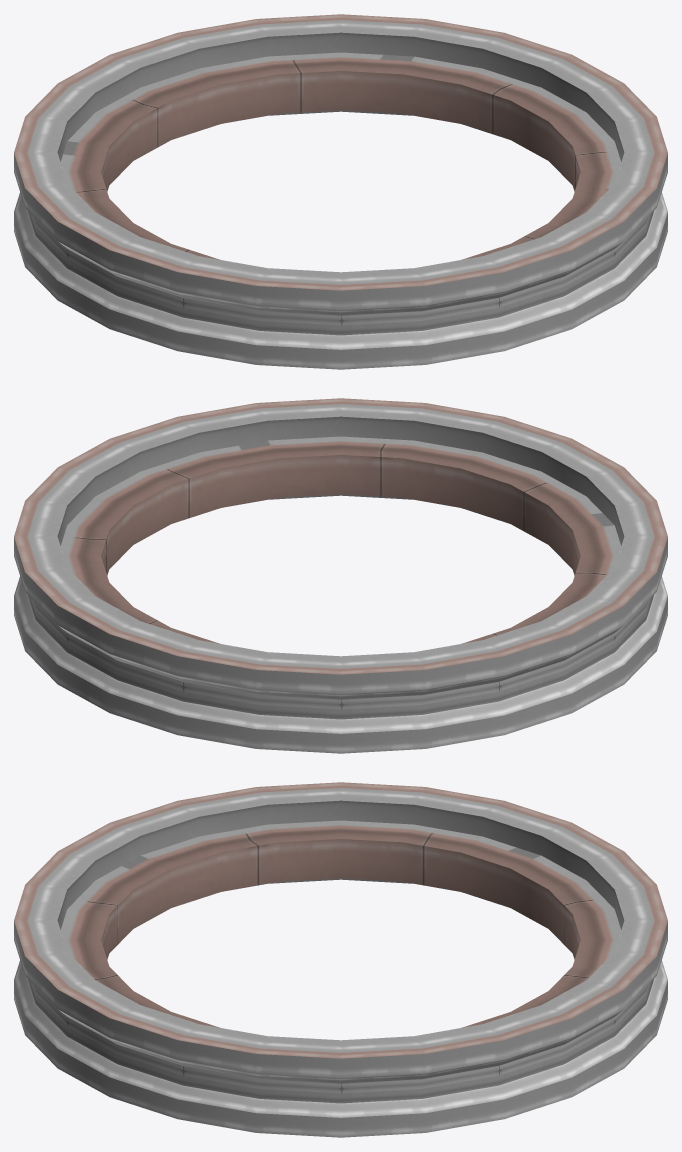
Rendered from Castor_Decoupler_1_O.obj.
3 views of the same model, one above another, from view 1: azimuth 30°, elevation 25°; view 2: azimuth 150°, elevation 25°; view 3: azimuth 270°, elevation 25° (orthographic).
Visible parts, largest first — view 1: Castor_Decoupler_1_O; view 2: Castor_Decoupler_1_O; view 3: Castor_Decoupler_1_O.
Boxes of the visible parts, bbox=[...] form: Castor_Decoupler_1_O: bbox=[14, 14, 667, 369]; Castor_Decoupler_1_O: bbox=[14, 398, 667, 753]; Castor_Decoupler_1_O: bbox=[14, 782, 667, 1137].
Size of the model in its own units: 0.9375 by 0.125 by 0.9375.
